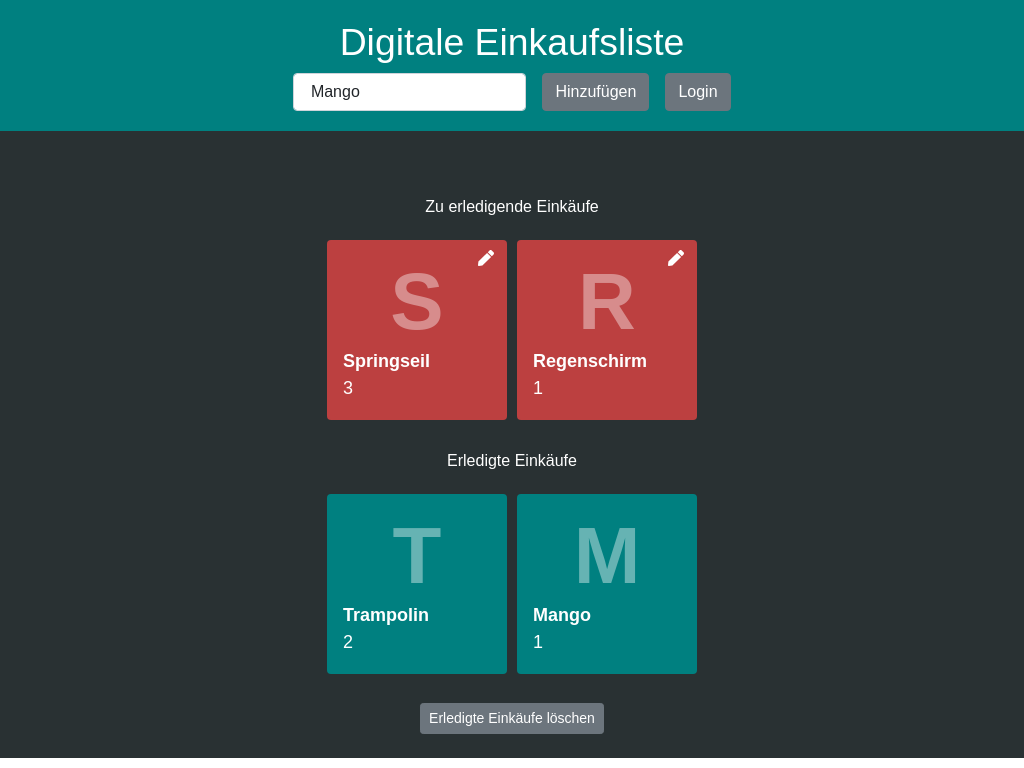
Scenario: tests with already existing BackendData › should deleate DONE elements
The width and height of the screenshot is (1024, 768).
Click the button "Erledigte Einkäufe löschen".
click(512, 719)  # box [420,703,604,734]
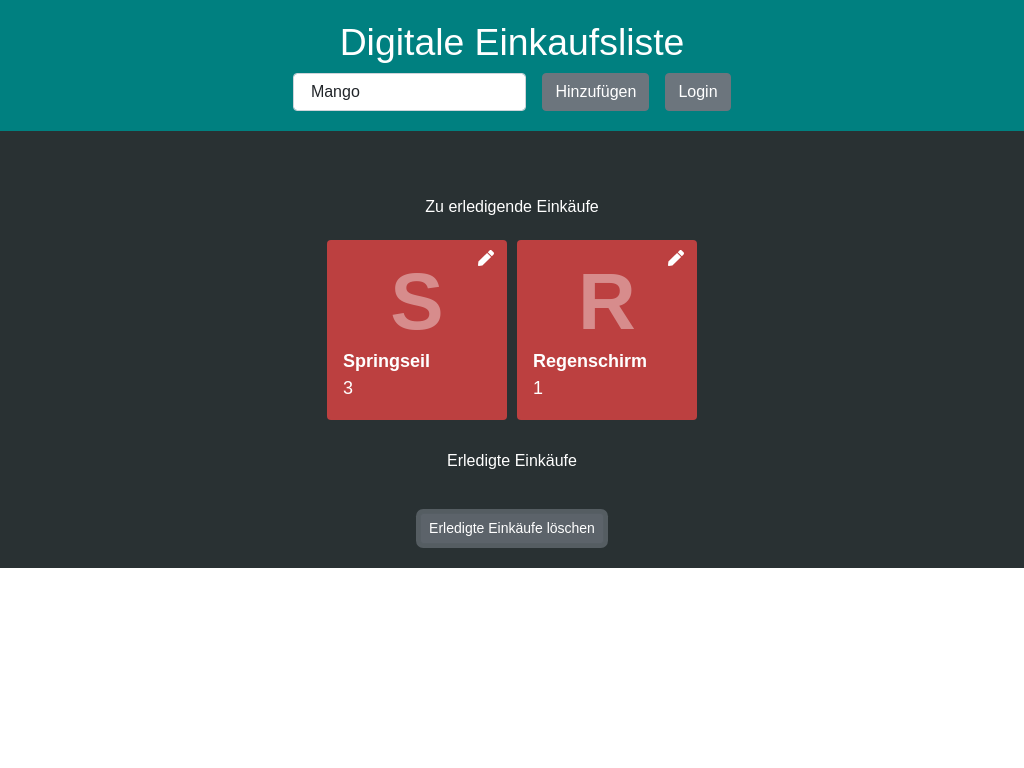
Now the text "T Trampolin 2" is gone
